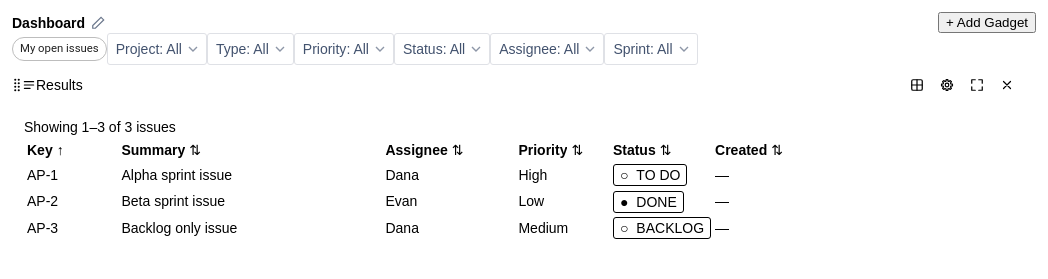
Test case: JL-366 — selecting a sprint narrows the dashboard by sprintId › shows only the selected sprint's issues
Check: the text "Showing 1–3 of 3 issues" is shown, box [24, 119, 176, 135]
Click the button "Sprint: All" at (651, 49), box [604, 33, 698, 65]
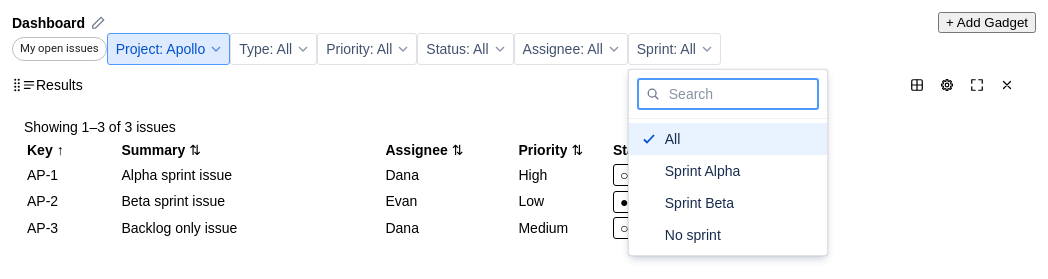
Click the option "Sprint Alpha" at (703, 171), box [665, 163, 740, 179]
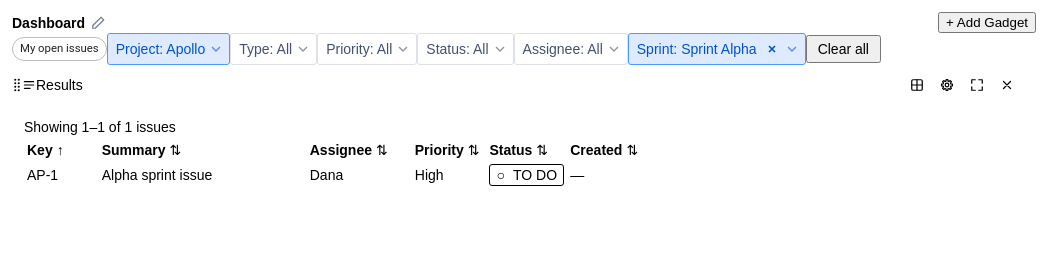
Check: the text "Beta sprint issue" is gone
Check: the text "Backlog only issue" is gone
Check: the button "Sprint: Sprint Alpha" is shown, box [628, 33, 806, 65]
